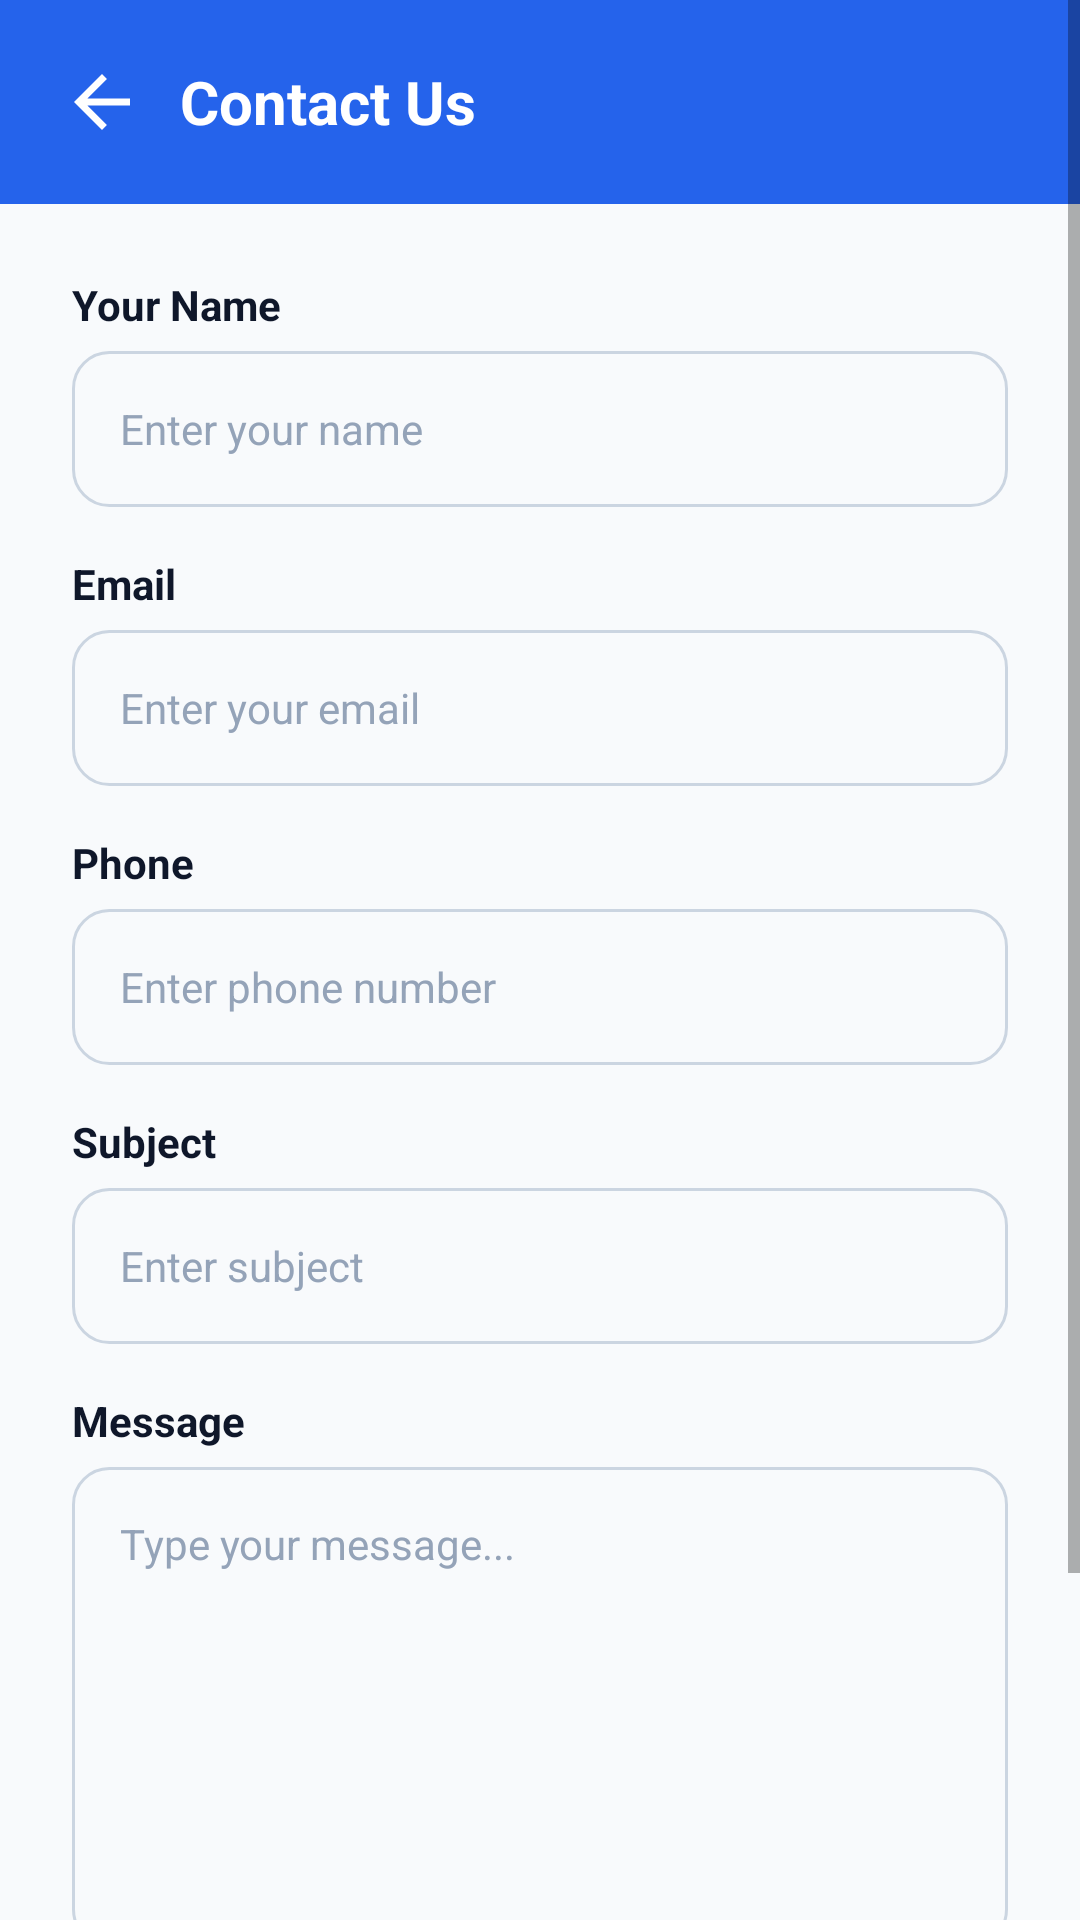

Icons on this 1080×1920 Android screen, each with the point to tap as point (x, y):
Back: point (102, 102)
